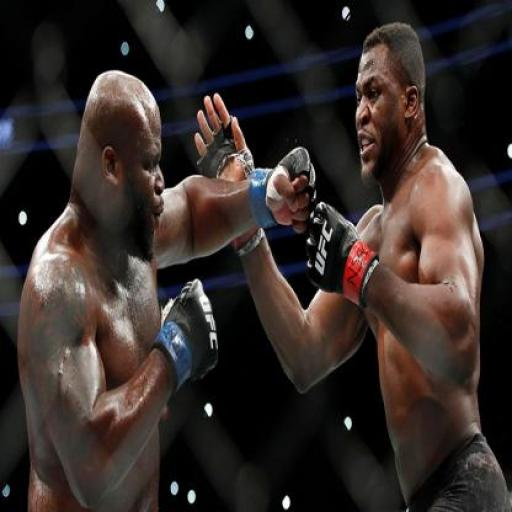Fighting: (28, 33, 509, 512)
